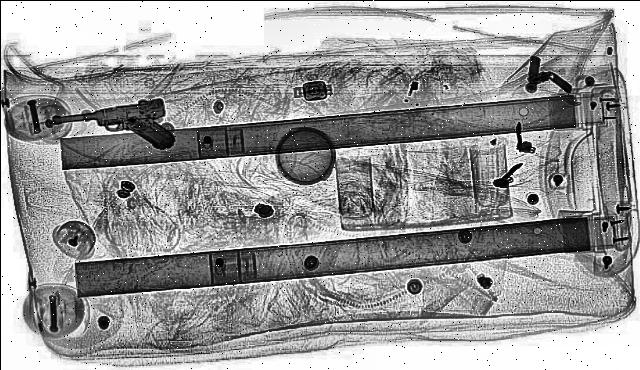Gun: (48, 97, 175, 151)
